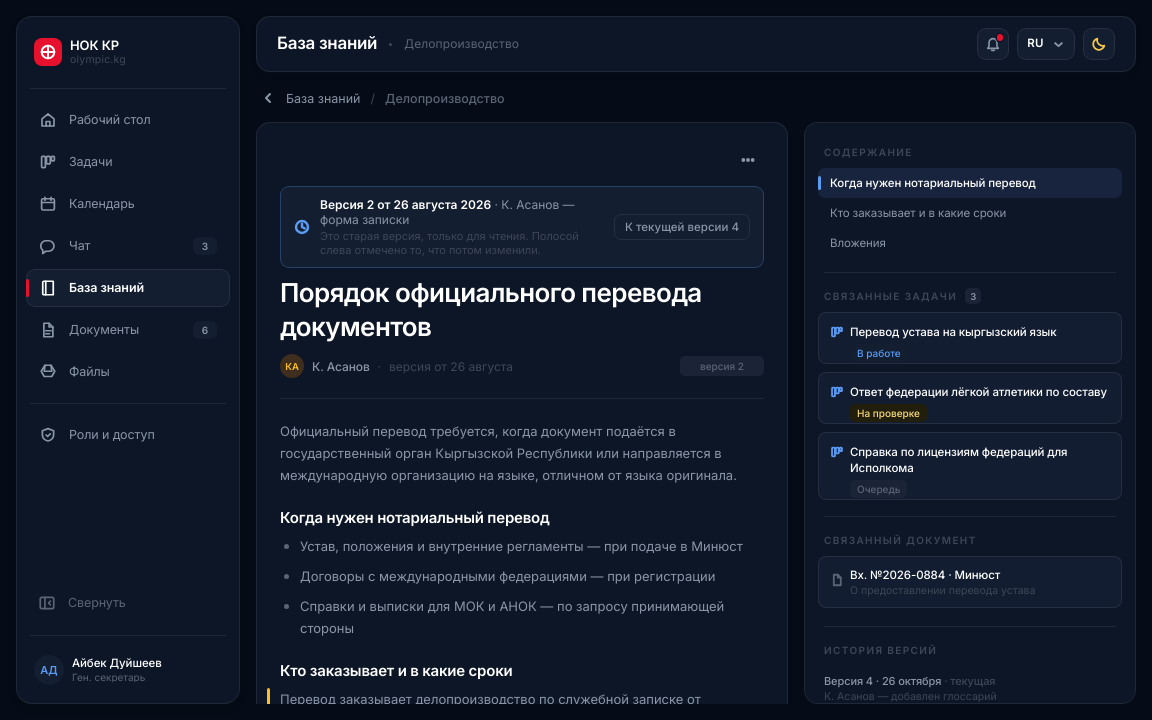
Scenario: база знаний (экраны) › старая версия открывается только для чтения, с отметкой изменённого
The width and height of the screenshot is (1152, 720).
Click the link "К текущей версии 4": (682, 227) [614,214,750,240]
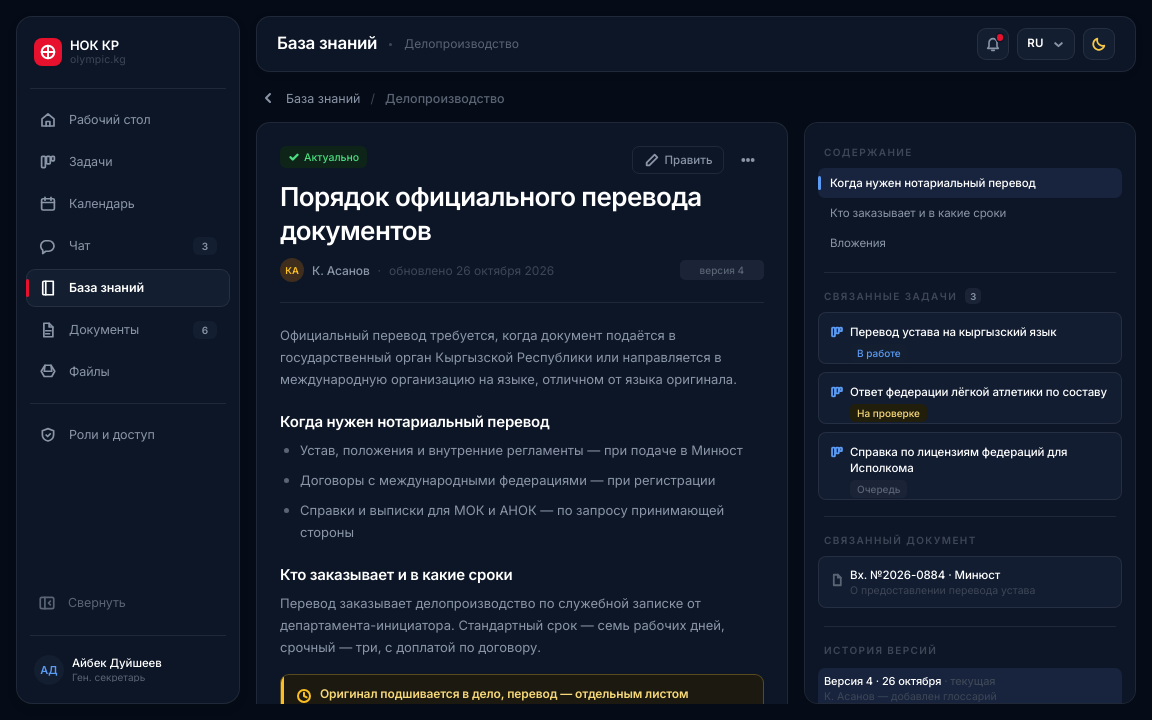
Check: the text "Версия 2 от" is gone
